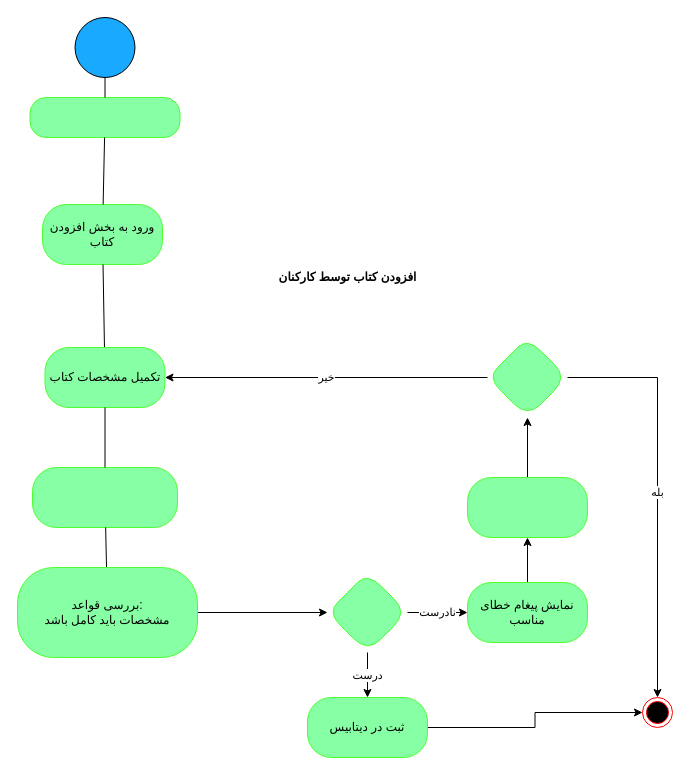
This 690x775 diagram has some shape labels left out. Here are the shapes that lost their labels. From the top down, the centre of each, then its label:
pixel 104 117: ورود به داشبورد
pixel 105 497: درخواست ثبت
pixel 527 507: لغو فرآیند
